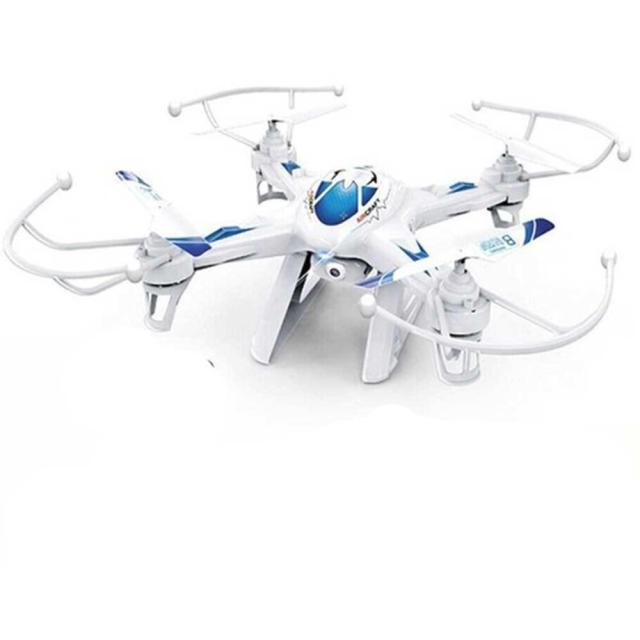drone: (16, 65, 640, 401)
